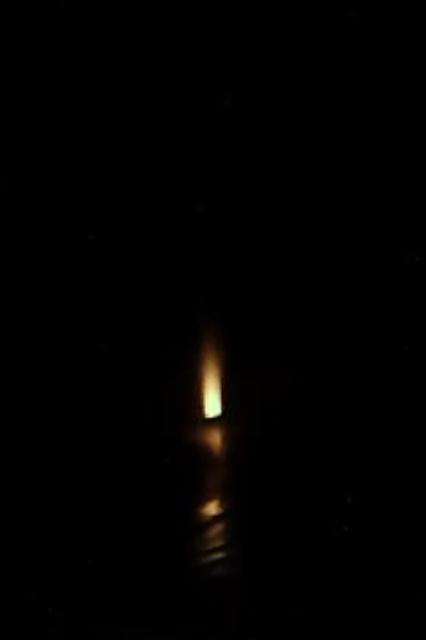burner flame: (198, 332, 228, 420)
